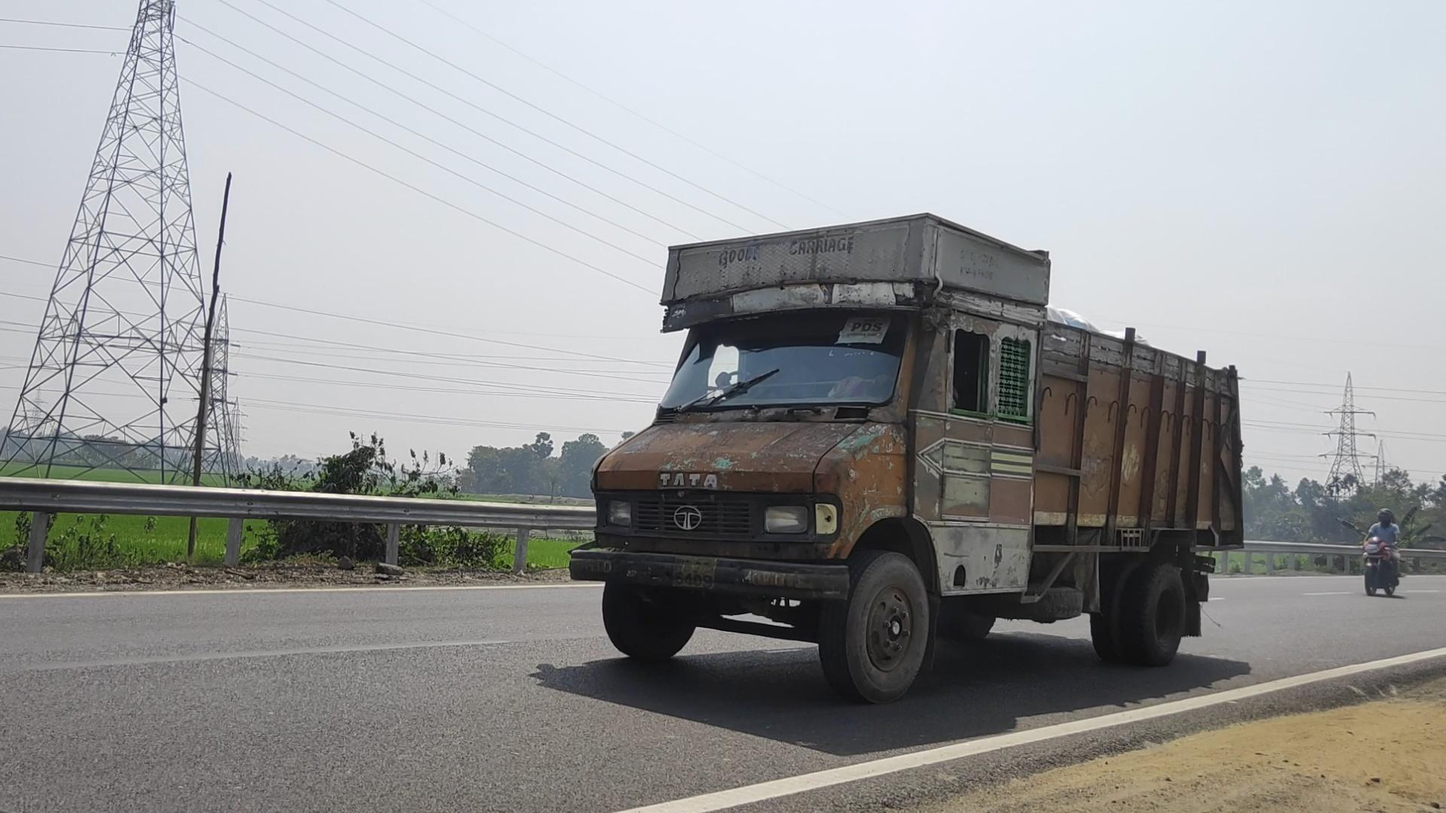bike: (1359, 508, 1405, 596)
truck: (570, 212, 1246, 705)
